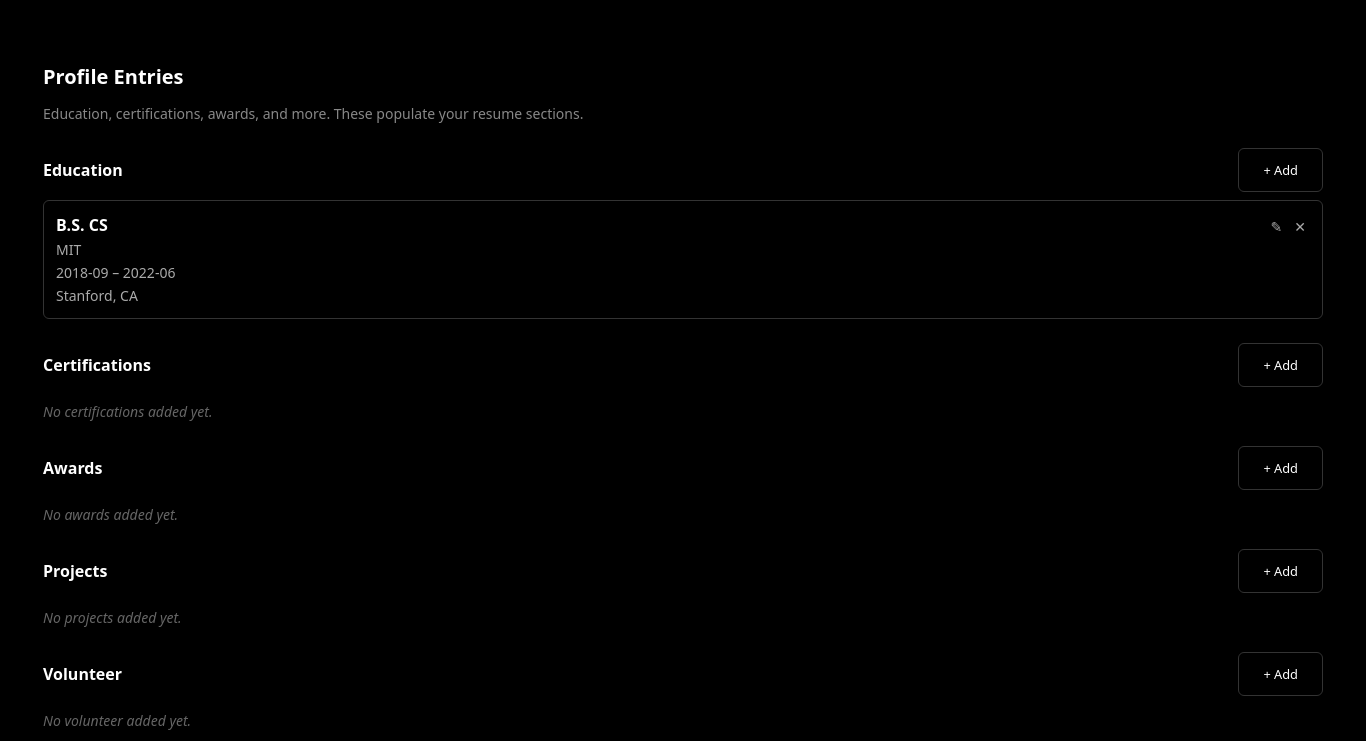
ProfileEntriesEditor › edit button shows SubSectionEditForm with entry data
Check: the element with test id "entry-e1" is shown, box [43,200,1323,319]
Click the button with test id "edit-entry-e1": (1276,226) [1266,213,1286,240]
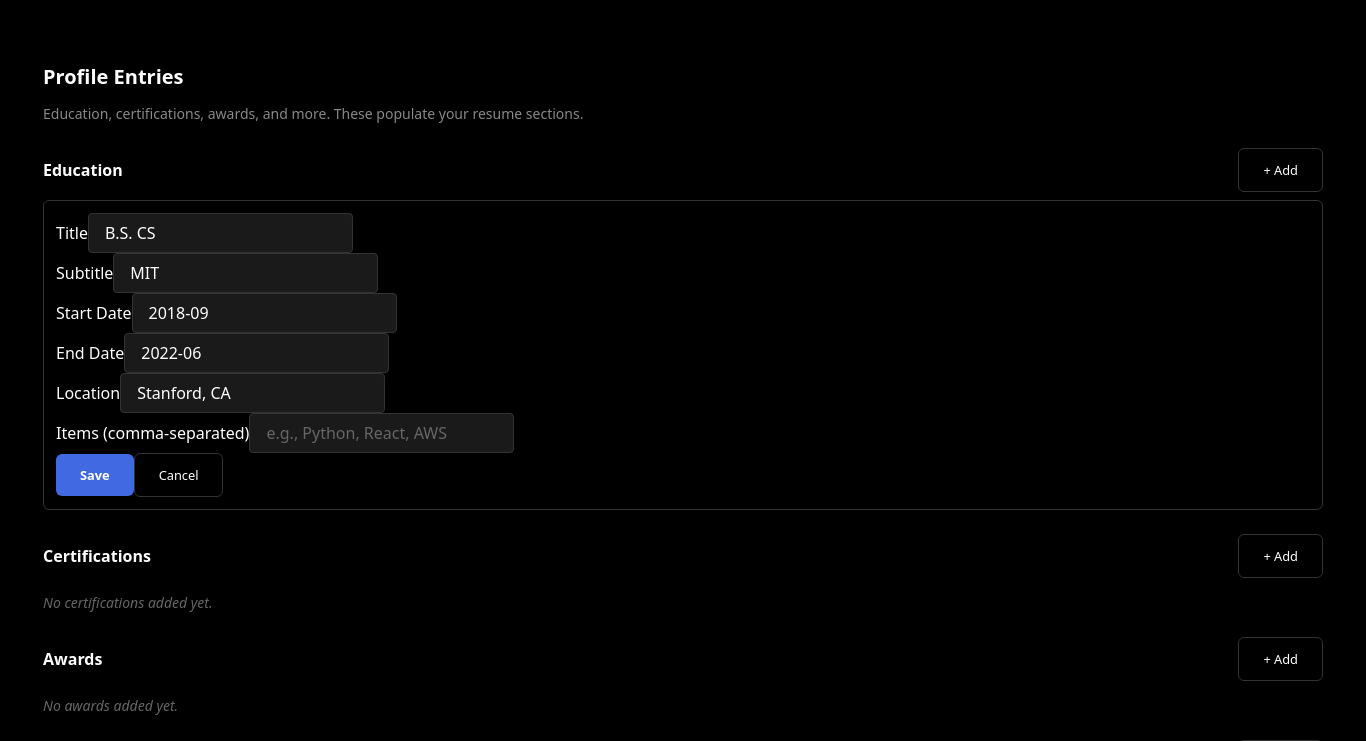
Check: the element with test id "subsection-edit-form" is shown, box [56,213,514,497]
Check: the field with test id "subsection-edit-title" holds "B.S. CS", box [88,213,353,253]
Check: the field with test id "subsection-edit-subtitle" holds "MIT", box [113,253,378,293]
